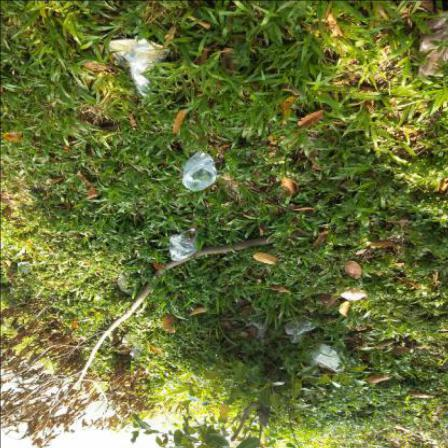Lid: (19, 262, 33, 273)
Other plastic: (11, 288, 17, 294)
Plastic bag - wrapper: (109, 35, 170, 98), (418, 19, 448, 80), (183, 153, 218, 191), (309, 343, 344, 374), (171, 229, 200, 262), (286, 321, 317, 344), (244, 321, 267, 344), (124, 338, 146, 360), (119, 273, 135, 295), (340, 291, 368, 302)
